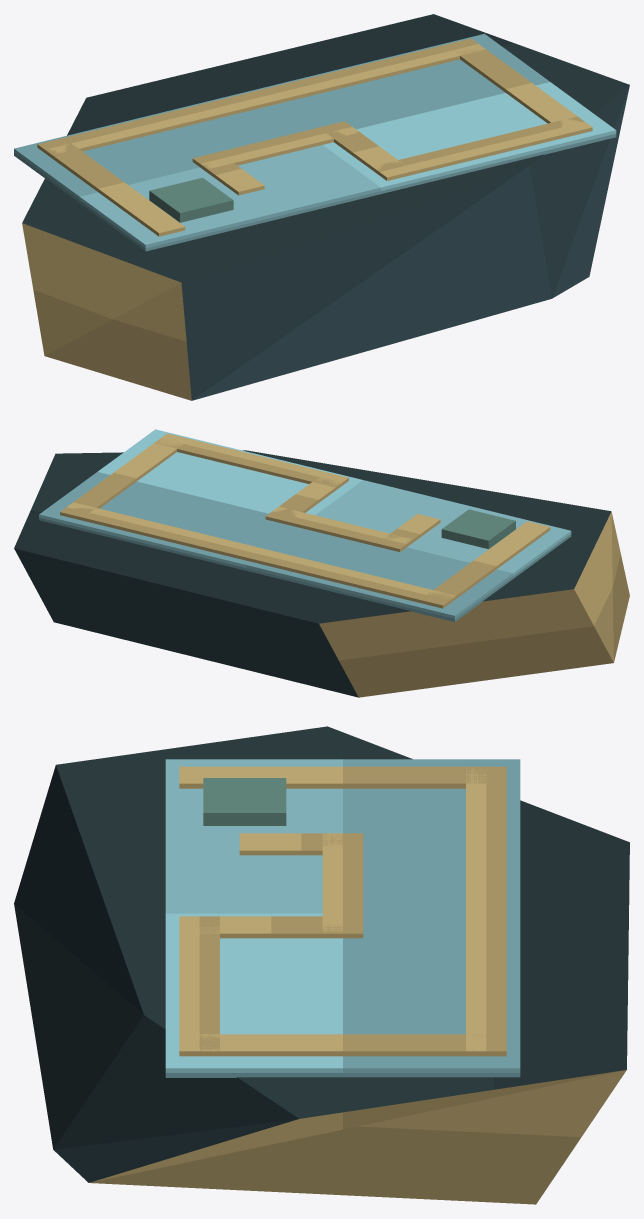
File: huashen_xuanji_ingot.obj
3 renders of one model, top to bottom at view 1: azimuth 30°, elevation 25°; view 2: azimuth 150°, elevation 25°; view 3: azimuth 270°, elevation 25°, orthographic. The views are drawn at different scales.
Parts seen in each view (by area): view 1: ingot_body, ingot_seal_ground, ingot_court_seal_1, ingot_court_seal_3, ingot_court_seal_0, ingot_court_seal_2, ingot_court_seal_5, ingot_court_seal_core, ingot_court_seal_4, ingot_court_seal_6; view 2: ingot_body, ingot_seal_ground, ingot_court_seal_1, ingot_court_seal_0, ingot_court_seal_3, ingot_court_seal_2, ingot_court_seal_5, ingot_court_seal_core, ingot_court_seal_4, ingot_court_seal_6; view 3: ingot_body, ingot_seal_ground, ingot_court_seal_1, ingot_court_seal_0, ingot_court_seal_2, ingot_court_seal_3, ingot_court_seal_5, ingot_court_seal_core, ingot_court_seal_4, ingot_court_seal_6.
Boxes of the visible parts, x1,y1,x2,y2 form: ingot_body: [22, 14, 629, 400]; ingot_seal_ground: [14, 34, 616, 251]; ingot_court_seal_1: [38, 38, 485, 153]; ingot_court_seal_3: [372, 116, 592, 180]; ingot_court_seal_0: [37, 139, 185, 236]; ingot_court_seal_2: [446, 39, 592, 136]; ingot_court_seal_5: [192, 121, 357, 171]; ingot_court_seal_core: [149, 177, 233, 222]; ingot_court_seal_4: [319, 121, 410, 180]; ingot_court_seal_6: [193, 157, 264, 195]; ingot_body: [14, 450, 629, 697]; ingot_seal_ground: [39, 429, 571, 621]; ingot_court_seal_1: [60, 502, 456, 607]; ingot_court_seal_0: [420, 521, 550, 608]; ingot_court_seal_3: [155, 433, 348, 487]; ingot_court_seal_2: [60, 433, 189, 517]; ingot_court_seal_5: [265, 506, 412, 551]; ingot_court_seal_core: [441, 509, 515, 549]; ingot_court_seal_4: [274, 476, 348, 524]; ingot_court_seal_6: [377, 514, 440, 551]; ingot_body: [14, 726, 629, 1204]; ingot_seal_ground: [165, 759, 520, 1077]; ingot_court_seal_1: [466, 766, 506, 1056]; ingot_court_seal_0: [179, 766, 506, 788]; ingot_court_seal_2: [179, 1034, 506, 1056]; ingot_court_seal_3: [179, 916, 219, 1055]; ingot_court_seal_5: [322, 833, 363, 938]; ingot_court_seal_core: [203, 778, 286, 825]; ingot_court_seal_4: [179, 916, 363, 938]; ingot_court_seal_6: [239, 833, 363, 855].
Size of the model in its own units: 0.3922 by 0.075 by 0.2552.
